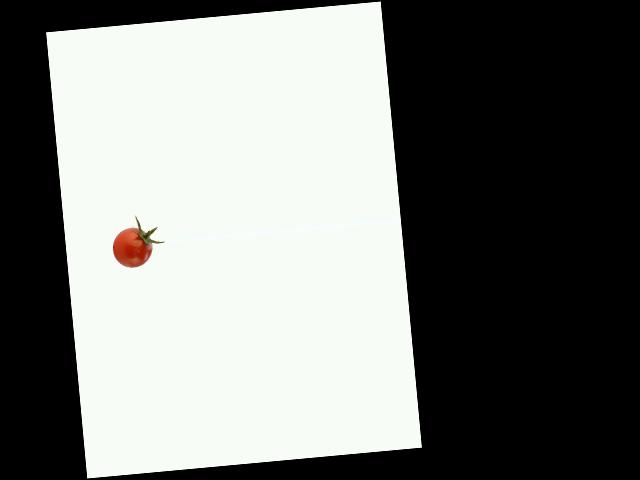tomato: (110, 226, 153, 269)
